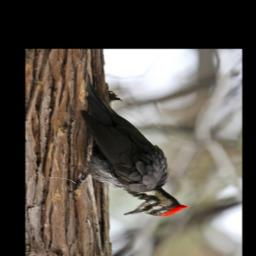Woodpecker: (68, 73, 190, 217)
